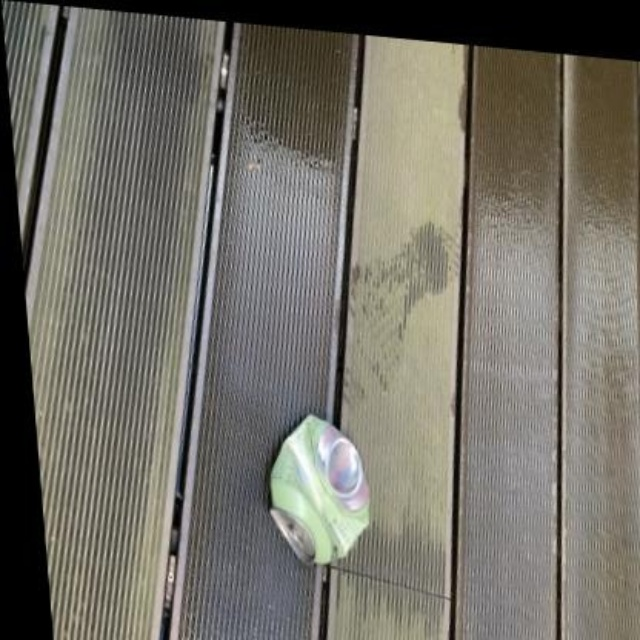trash: (271, 415, 368, 563)
